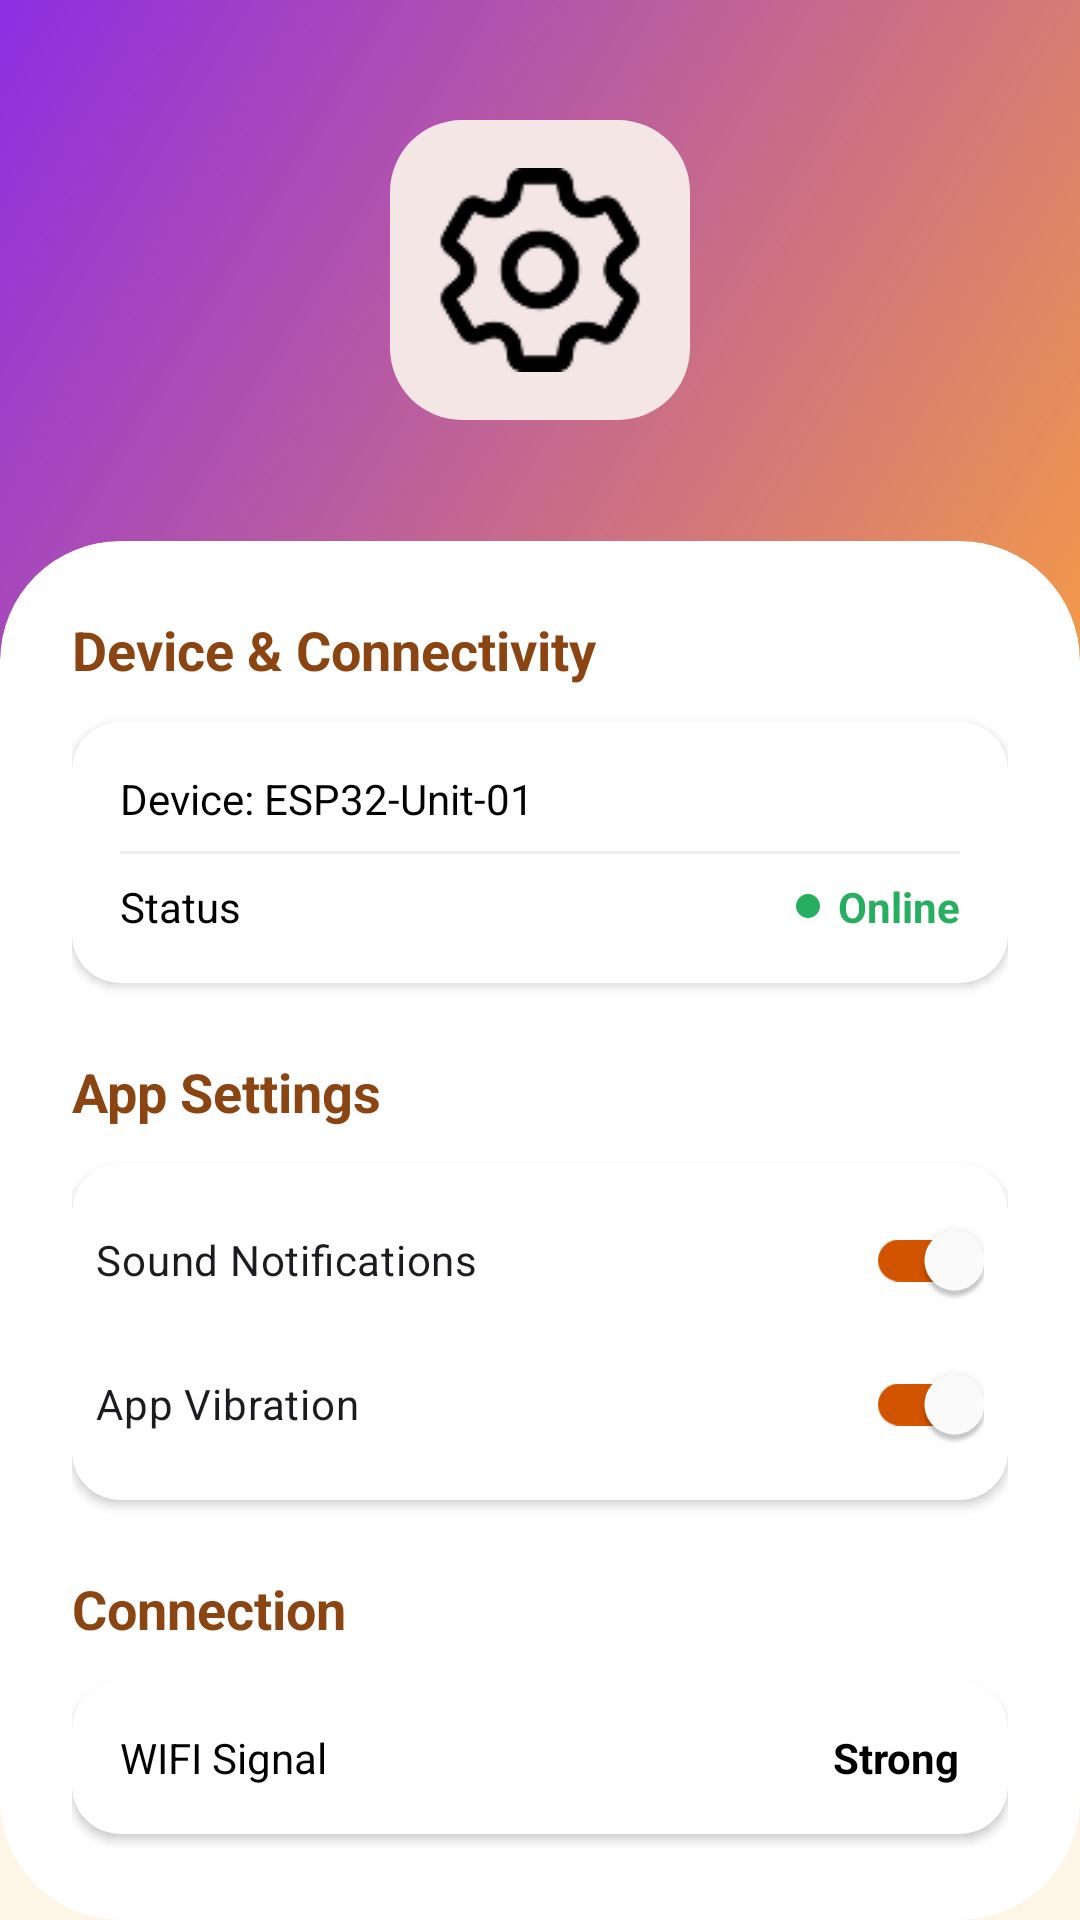

Icon bounding boxes for this 1080×1920 phone screenshot, format (x1, y1, x2, y2):
pengaturan: (390, 120, 690, 420)
